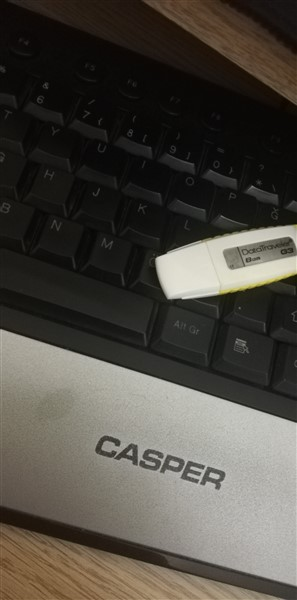flash disk: (149, 216, 297, 305)
klavye: (2, 2, 297, 600)
